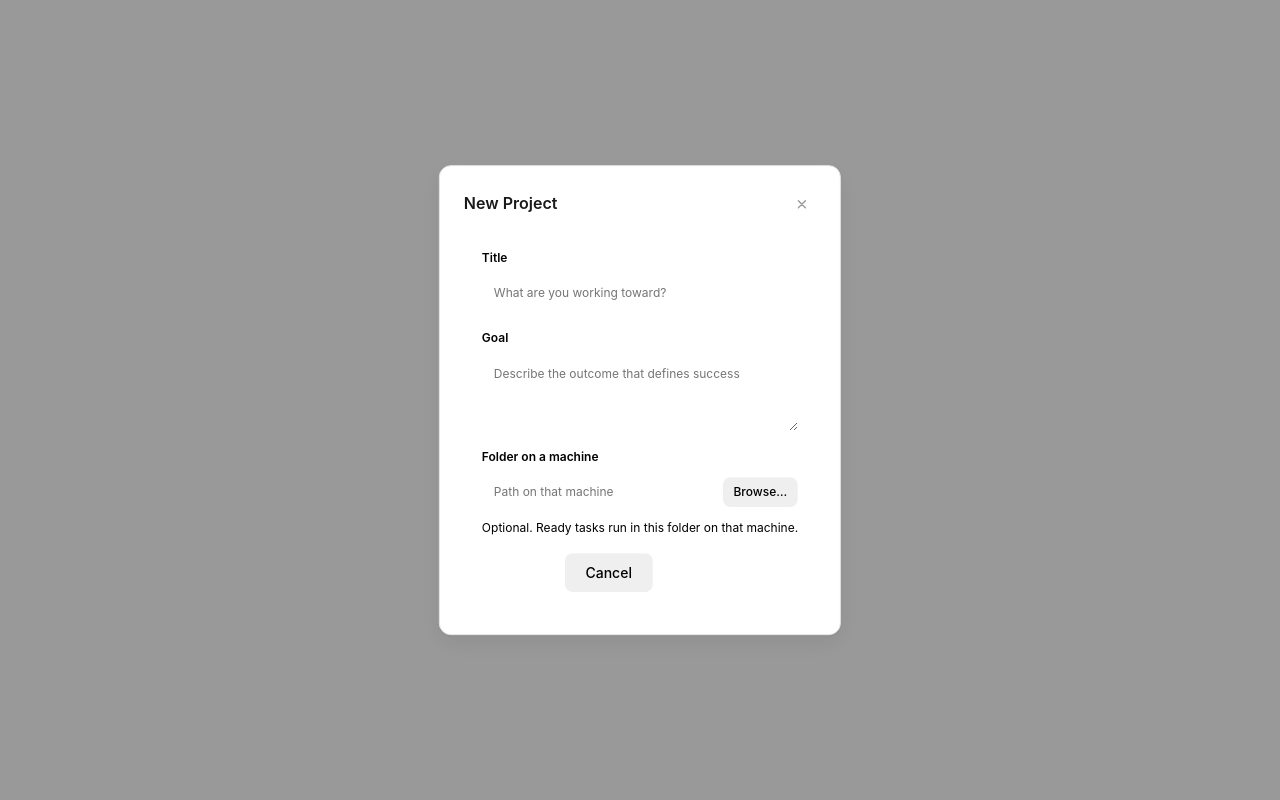
Test case: ProjectCreateDialog › defaults to this machine when it is already a registered worker
Type "Notes" into the field with placeholder "What are you working toward?". click: (640, 293)
box: [482,273,798,312]
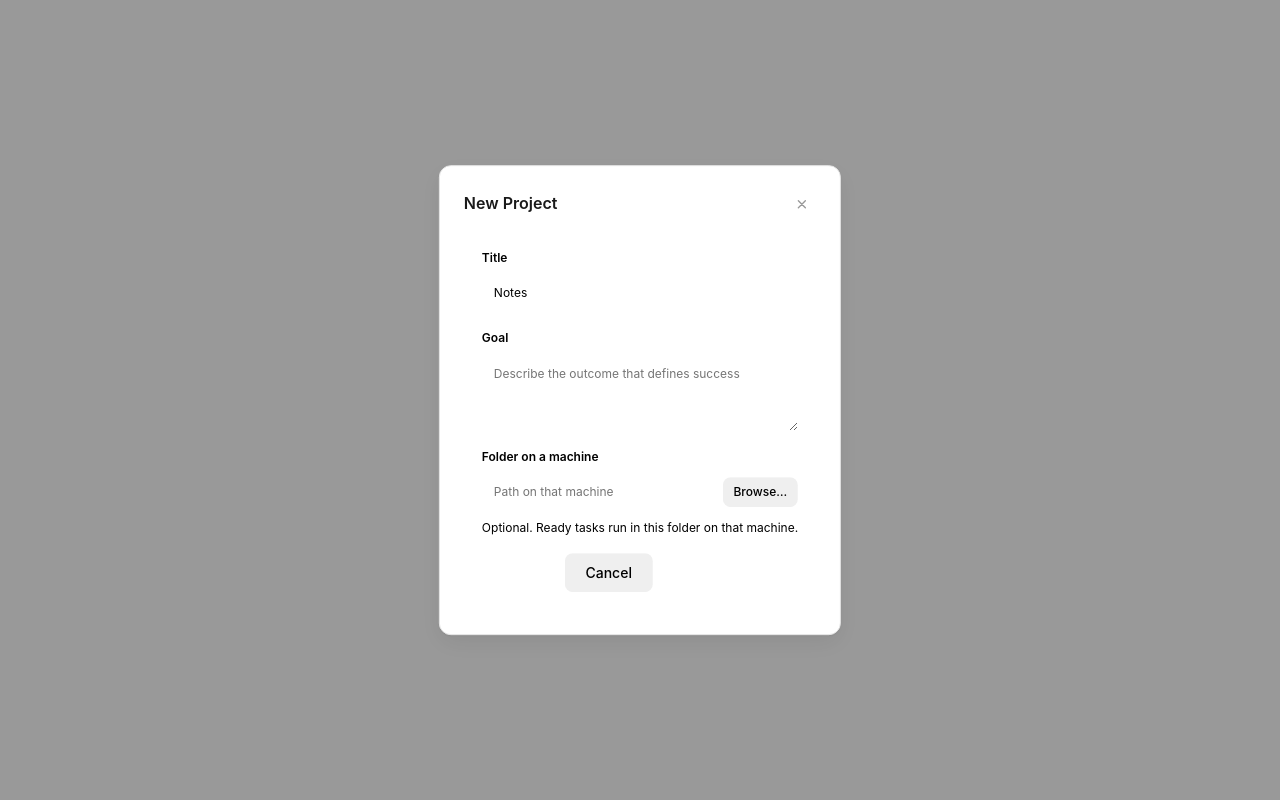
Type "~/notes" into the field with placeholder "Path on that machine". click: (598, 492)
box: [482,472,714,512]
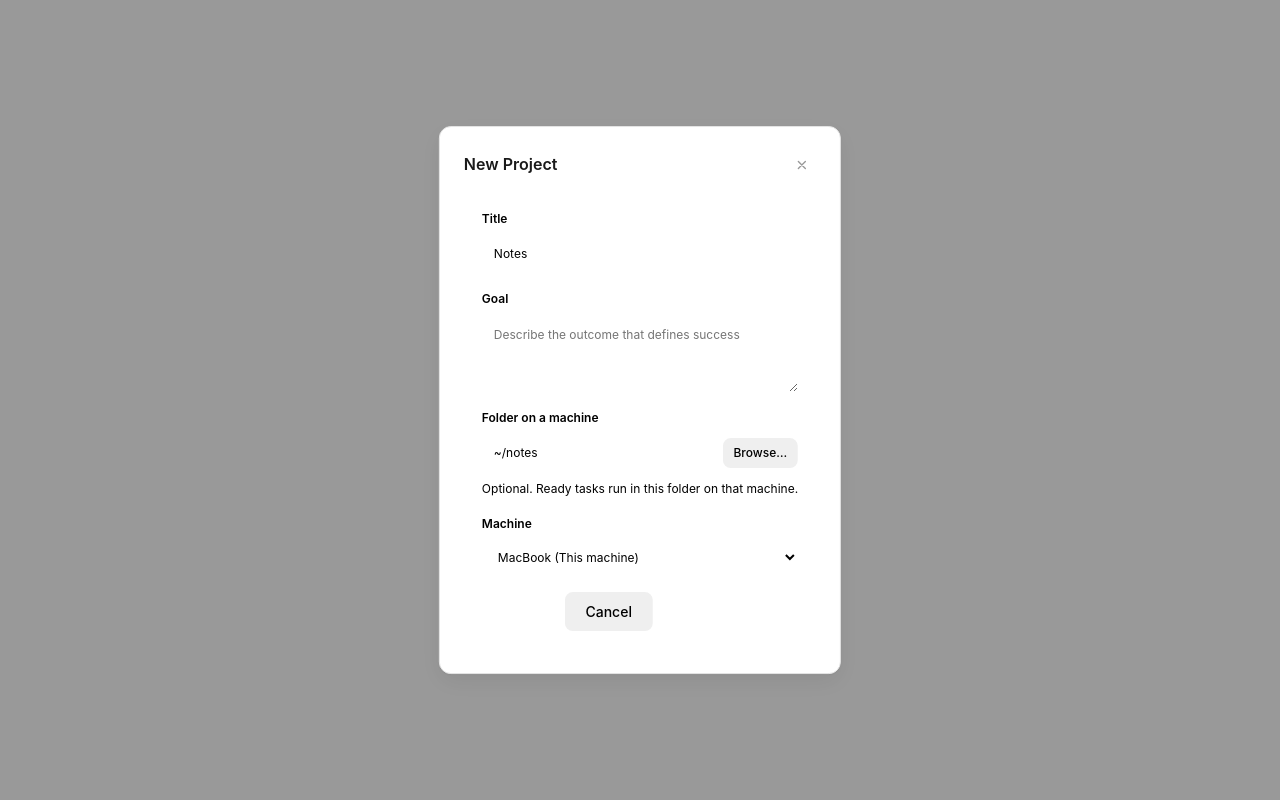
Expected: the dropdown named "Machine" shows "MacBook (This machine)", [482,539,798,576]
